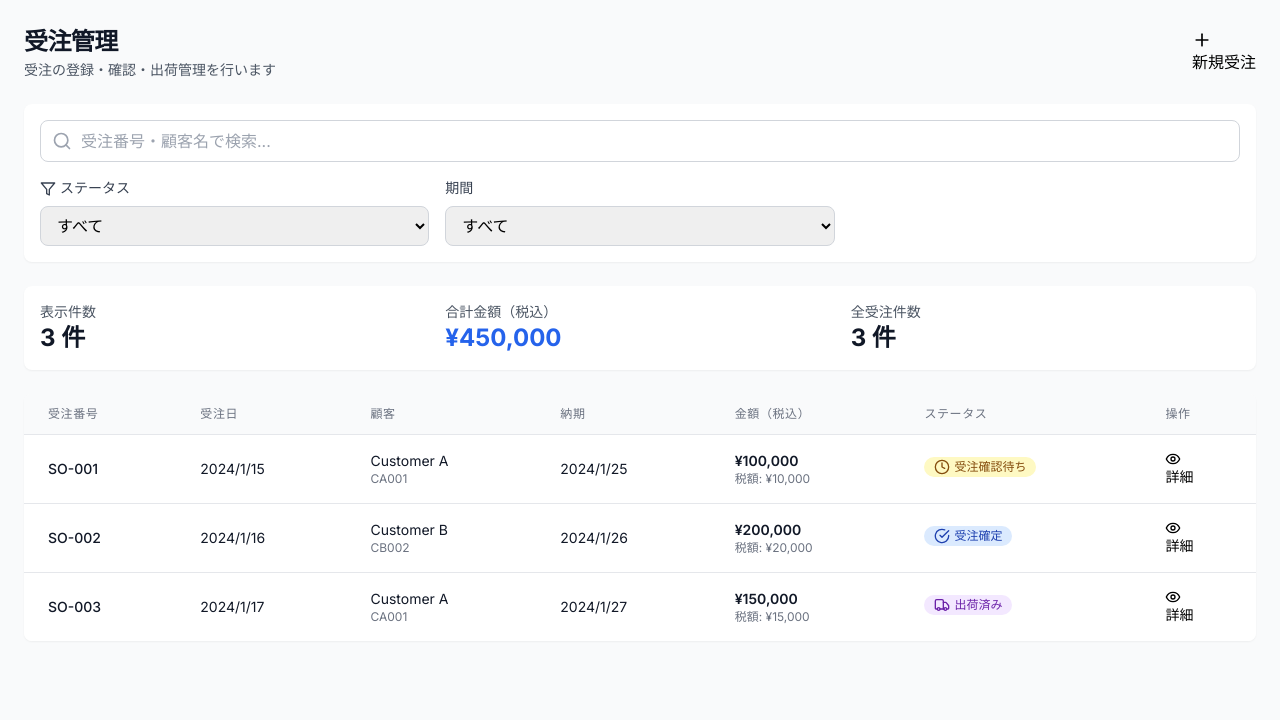
Test: SalesOrders › Search and Filter › should filter by search keyword
Check: the text "SO-001" is shown, box [48,460,98,477]
In the field with placeholder "受注番号・顧客名で検索...": point(640, 141) [40,120,1240,162], type "SO-001"
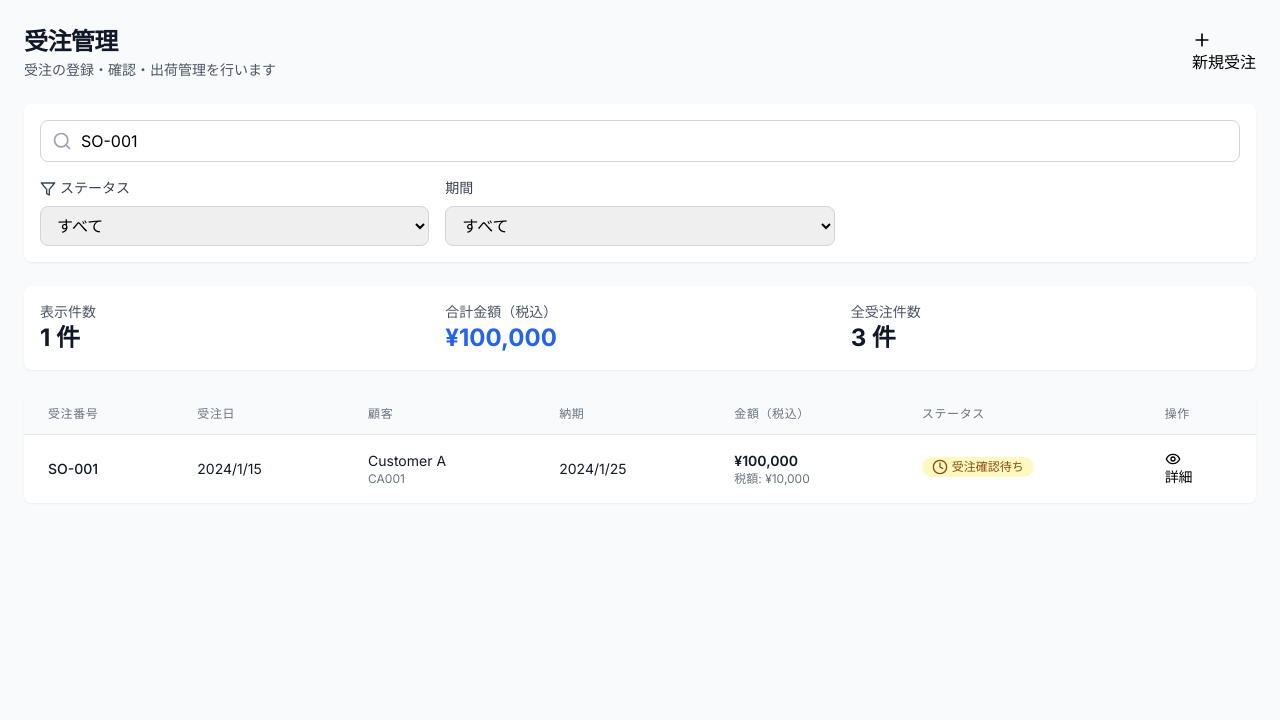
Check: the text "SO-001" is shown, box [48,460,98,477]
Check: the text "SO-002" is gone
Check: the text "SO-003" is gone
